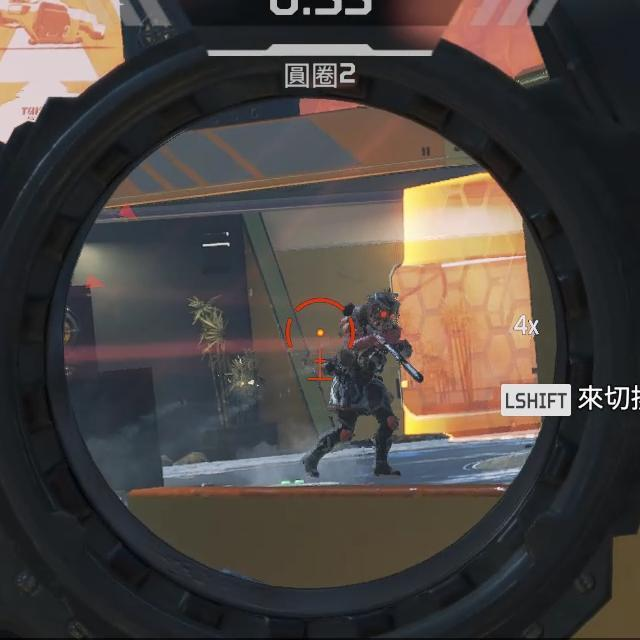avatar: (299, 286, 425, 480)
